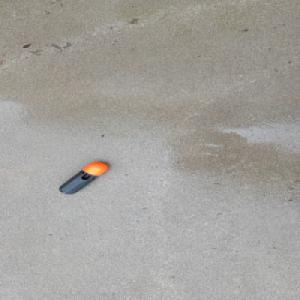PlasticPart: (58, 161, 109, 194)
